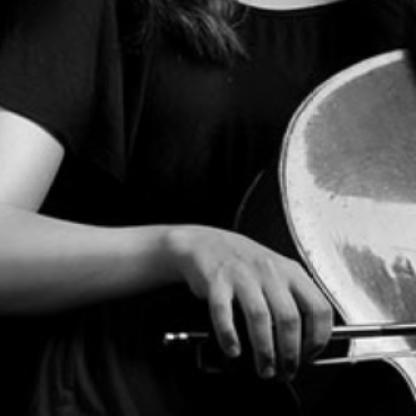good: (195, 245, 346, 382)
